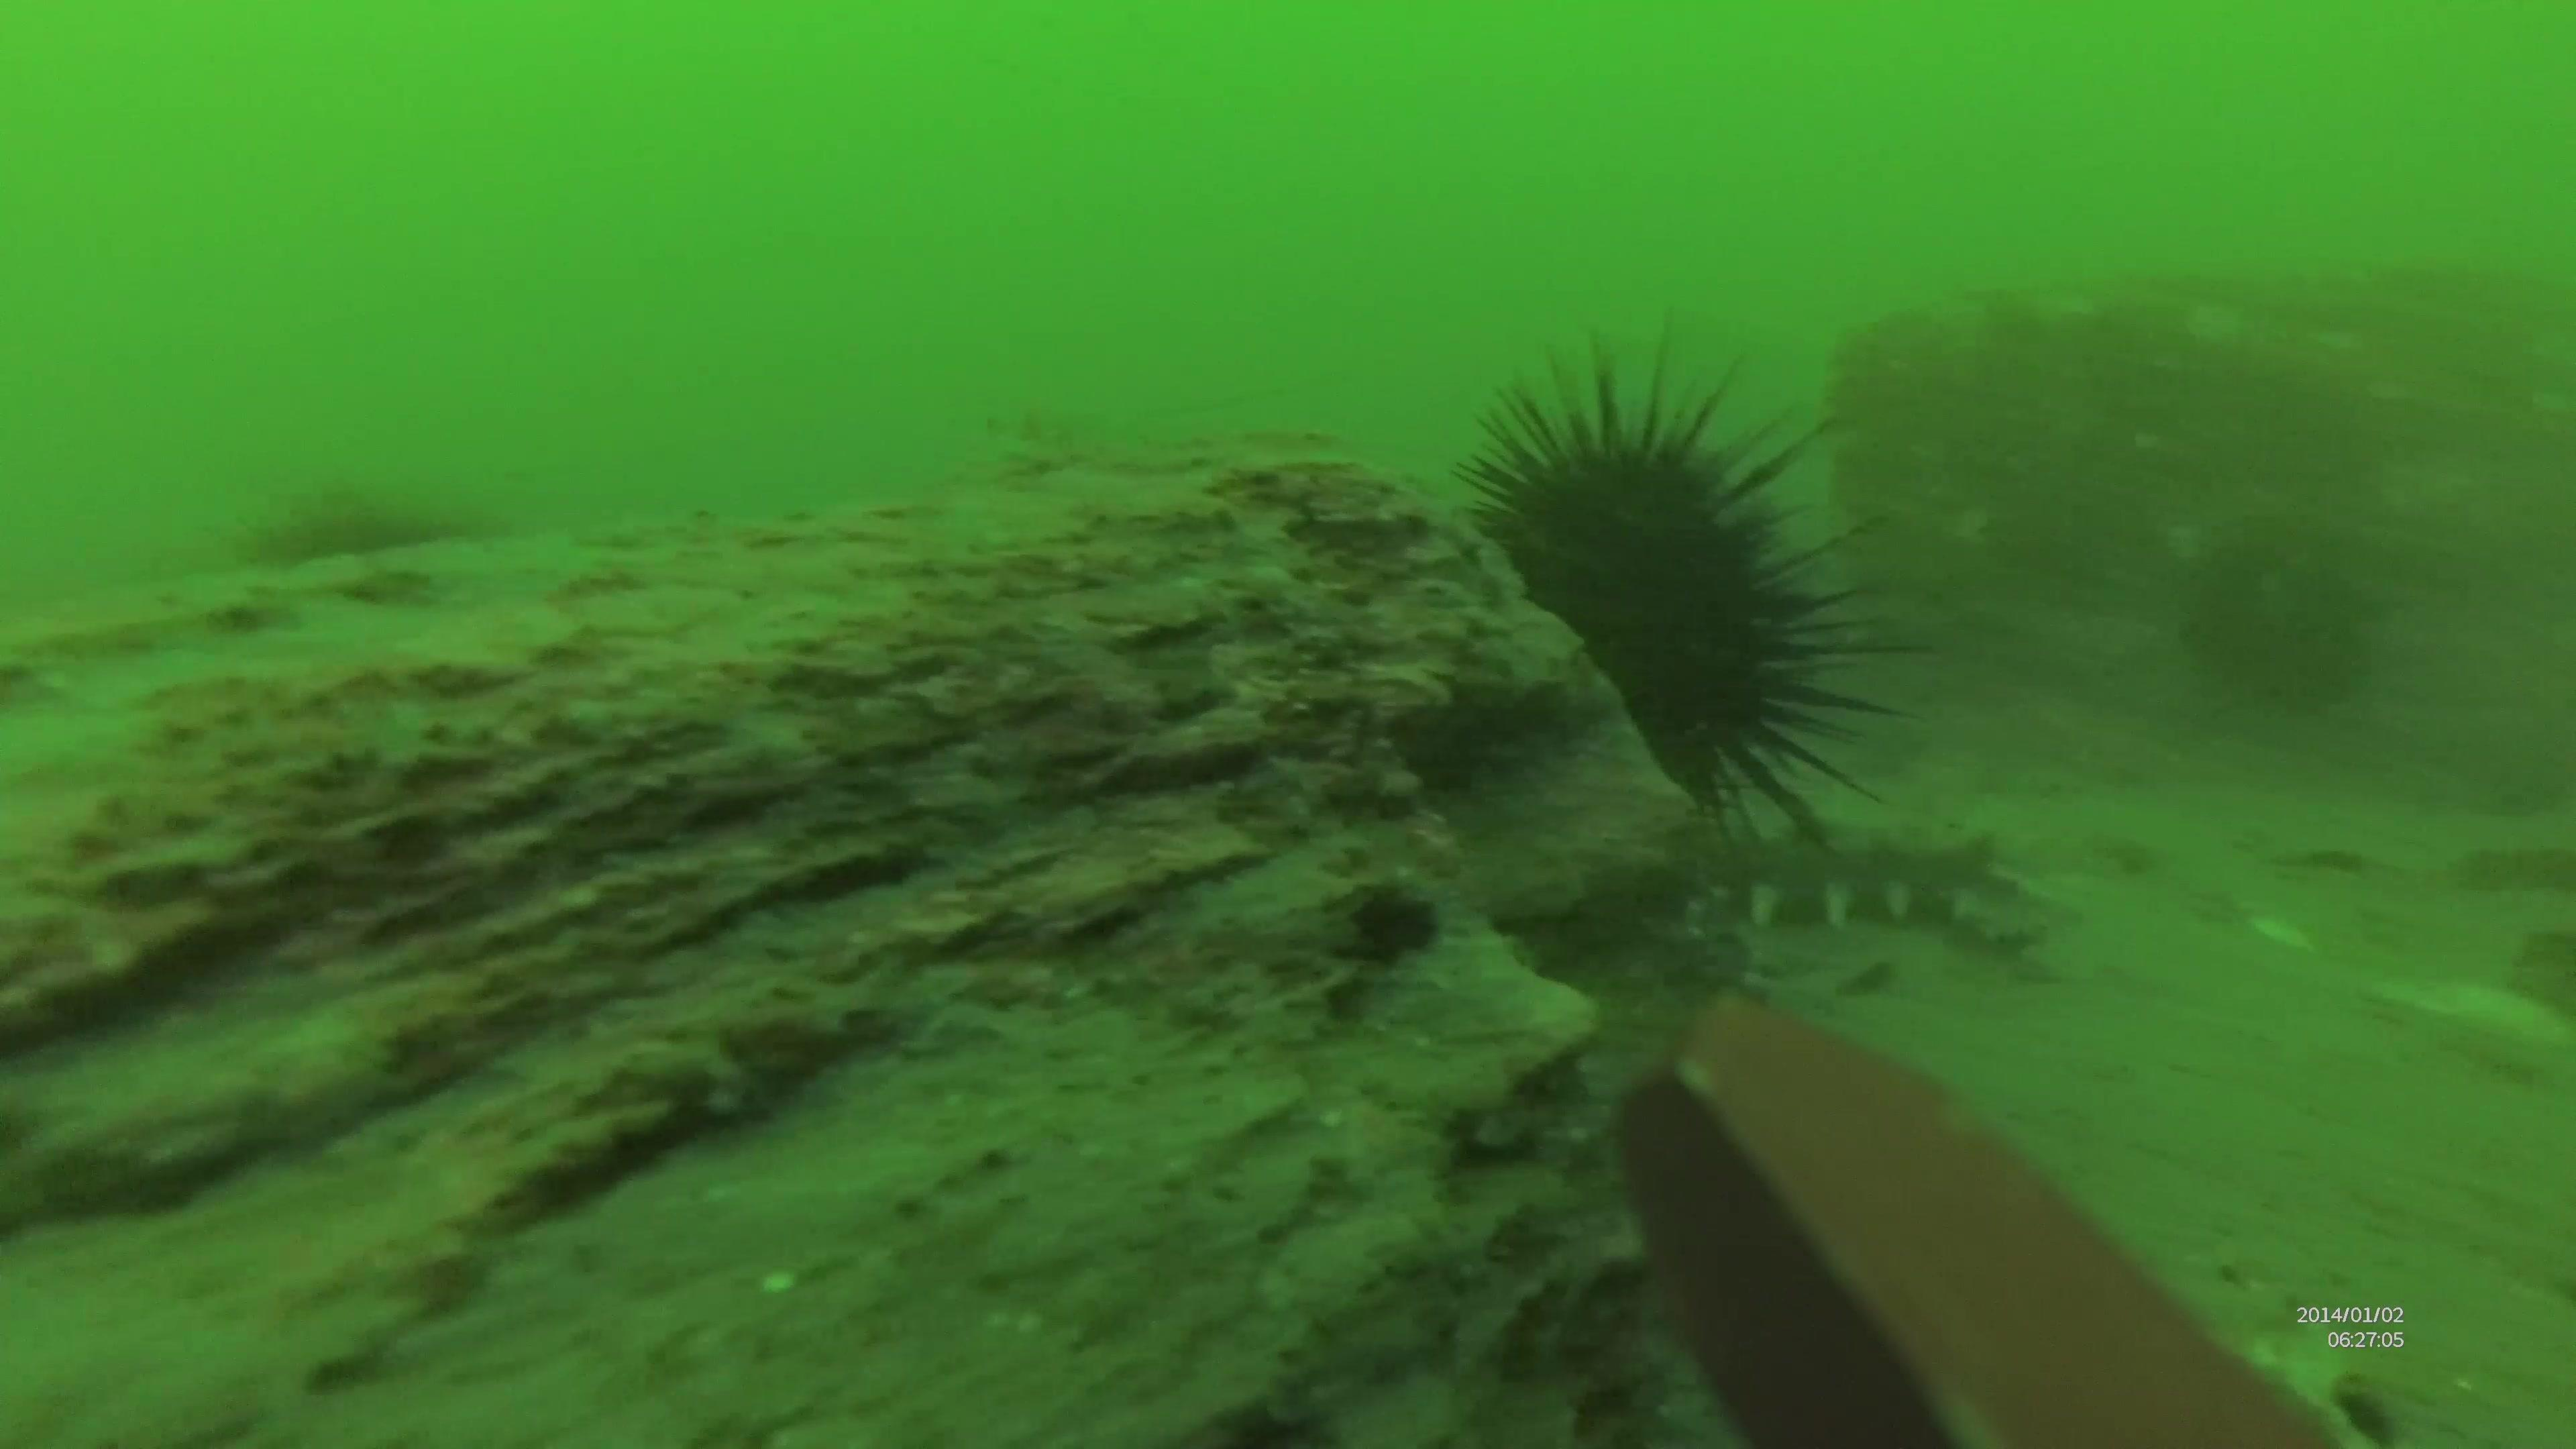echinus: (1456, 318, 1936, 865)
holothurian: (1522, 809, 2058, 948)
